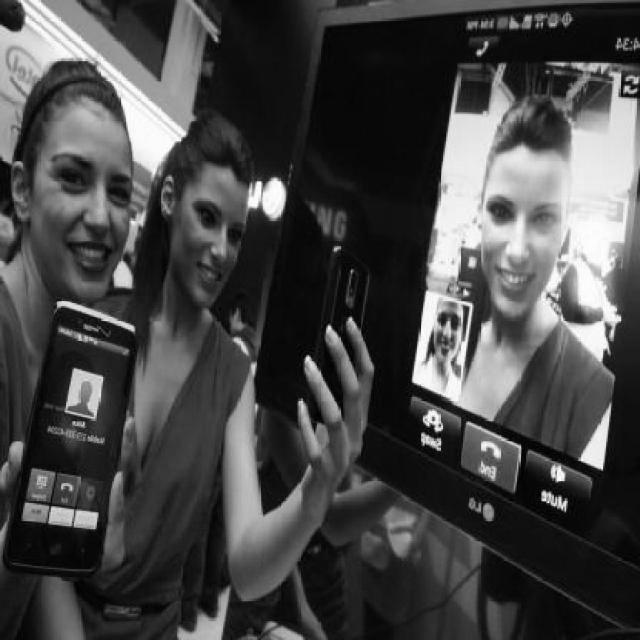fake: (384, 3, 640, 574), (16, 296, 138, 586), (306, 244, 371, 424)
real: (26, 105, 138, 306), (169, 159, 248, 308), (43, 153, 133, 205), (187, 196, 245, 246)
